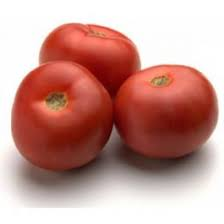tomato: (7, 60, 114, 170), (115, 62, 217, 160)
